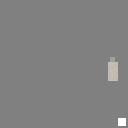supply_truck: (108, 62, 118, 81)
